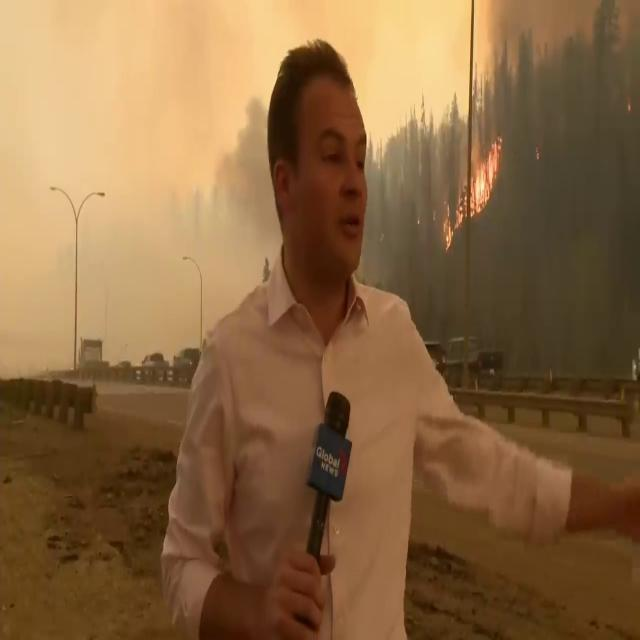Fire: (467, 129, 503, 220), (437, 180, 472, 251)
Smoke: (64, 0, 287, 339), (484, 0, 640, 300)
